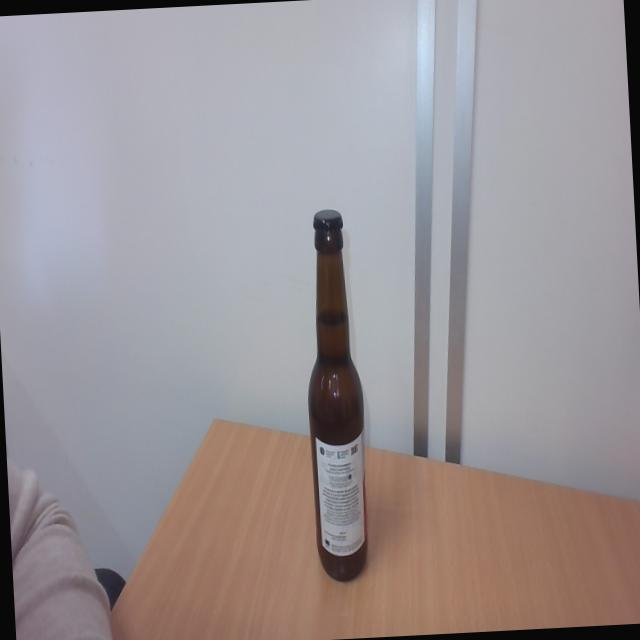Bottle: (298, 232, 373, 584)
Cap: (310, 204, 344, 235)
Label: (314, 434, 369, 556)
